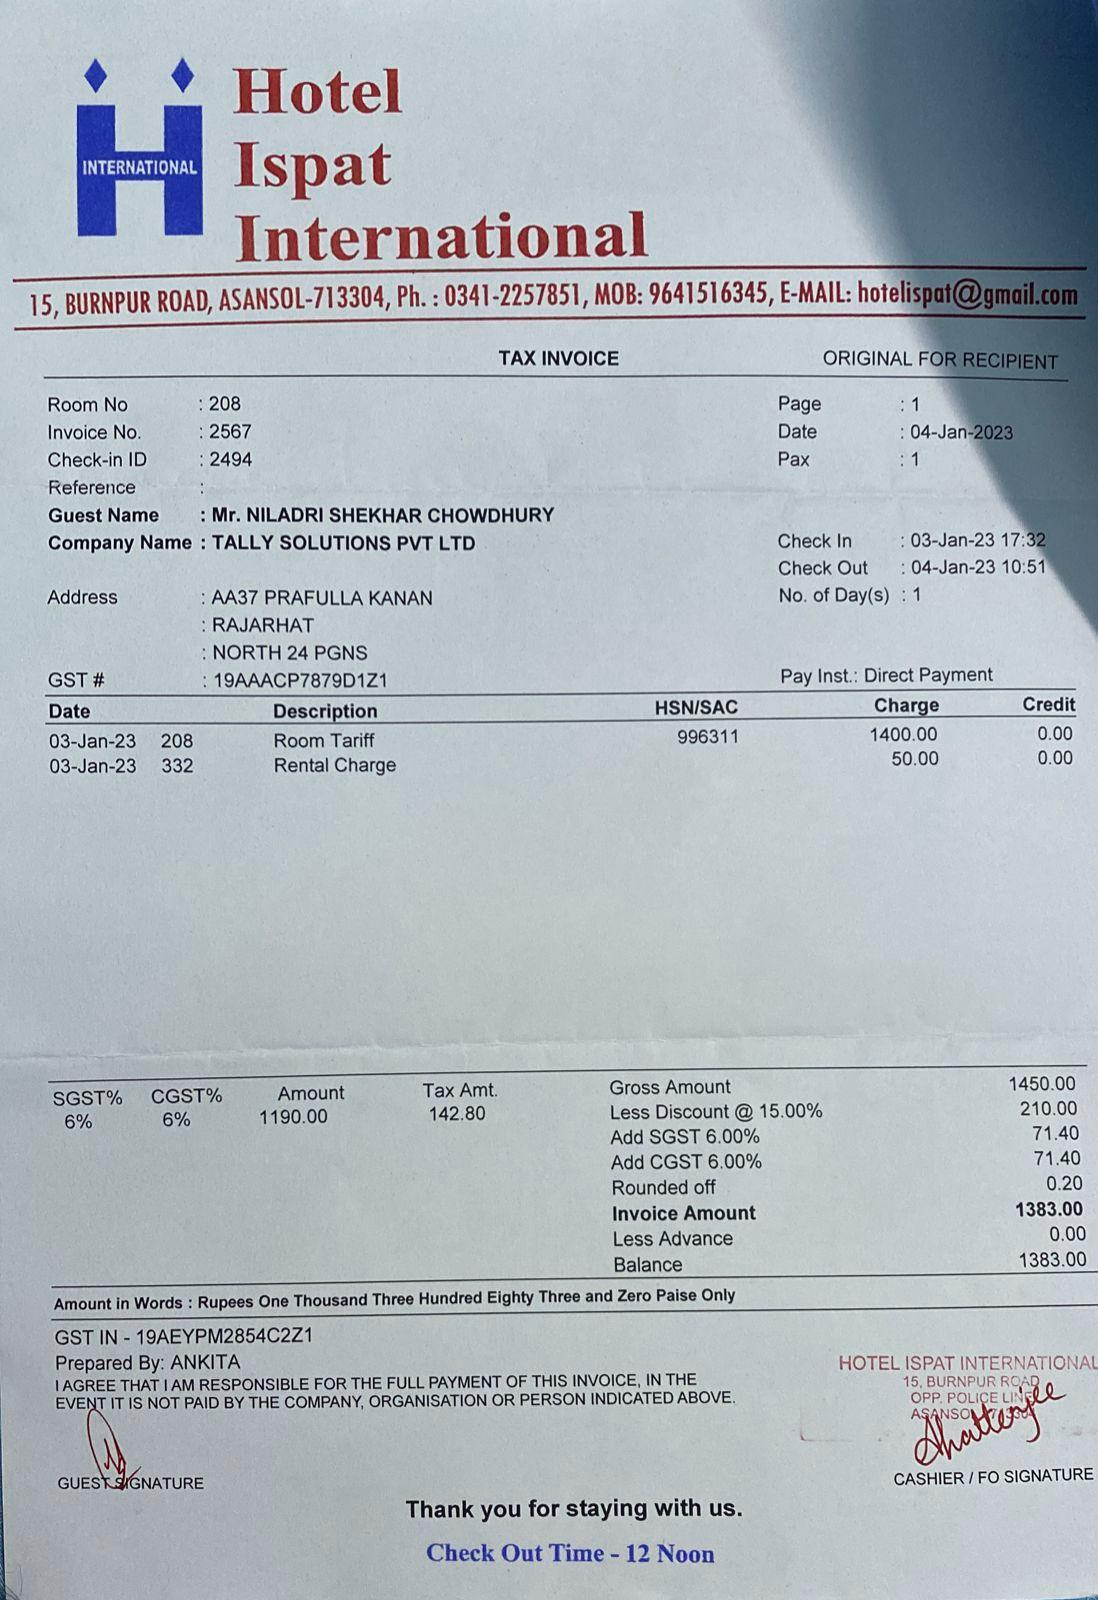InvoiceDate: (910, 422, 1017, 444)
InvoiceNumber: (205, 419, 259, 441)
TotalAmount: (1010, 1191, 1088, 1219)
